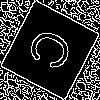C: (25, 25, 84, 78)
